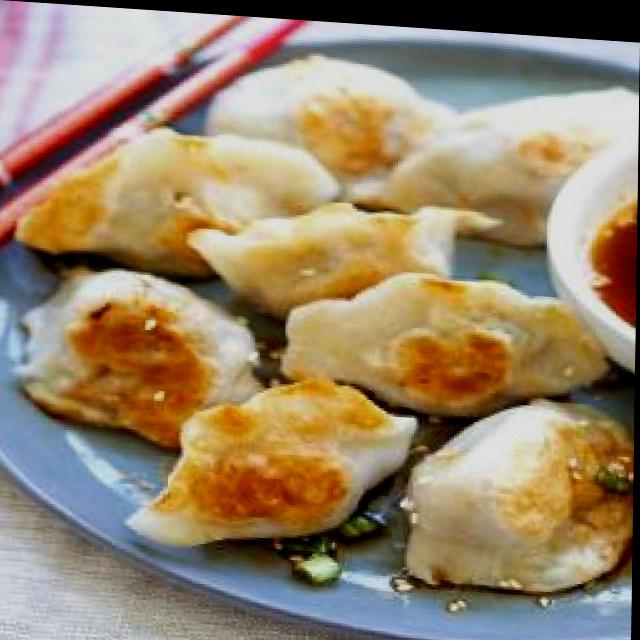fried_dumplings: (34, 44, 625, 583)
